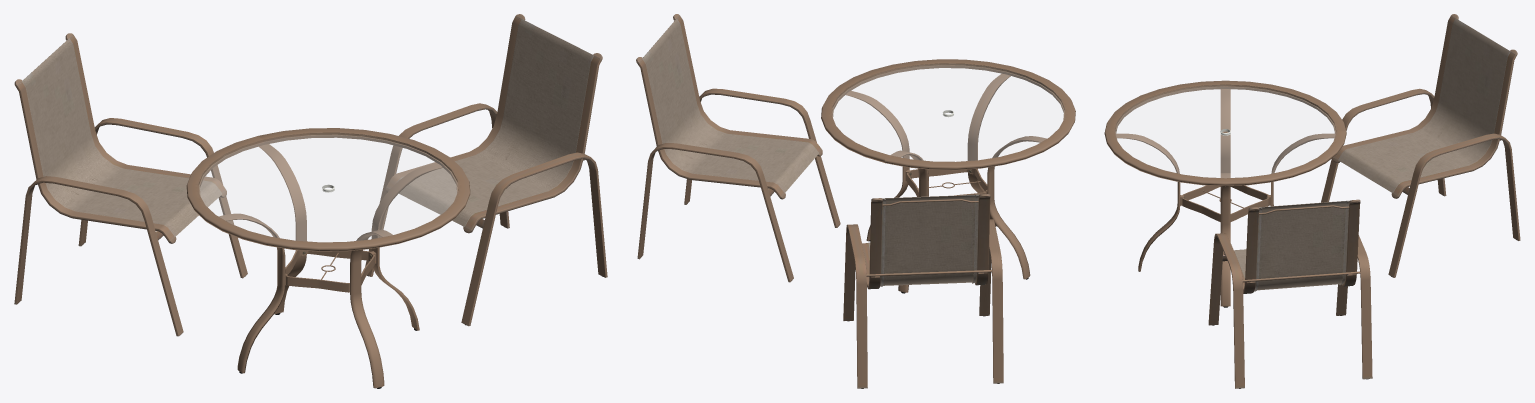
Rendered from patio_set_optimised.glb.
The picture shows the model from 3 angles, left to right: view 1: azimuth 30°, elevation 25°; view 2: azimuth 150°, elevation 25°; view 3: azimuth 270°, elevation 25°; orthographic projection. The views are drawn at different scales.
Visible parts, largest first — view 1: prop; view 2: prop; view 3: prop.
Part boxes in pixels (x1=…): prop: x1=14, y1=14, x2=607, y2=388; prop: x1=636, y1=14, x2=1075, y2=388; prop: x1=1104, y1=14, x2=1520, y2=388.
Size of the model in its own units: 2.16 by 0.9326 by 1.92.
Materials: 3 (2 with a texture image).
